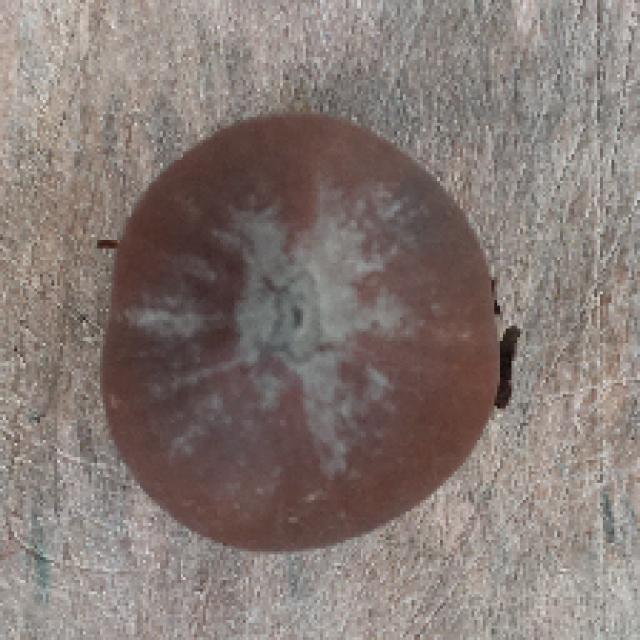damagedHazelnut: (85, 105, 528, 554)
